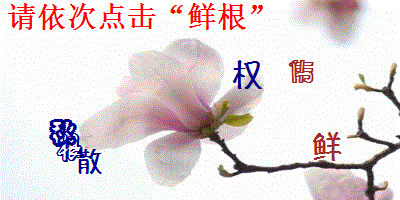text: (232, 58, 265, 91), (312, 131, 343, 163), (49, 118, 78, 148), (55, 134, 83, 163), (288, 58, 316, 85), (75, 148, 103, 175)
